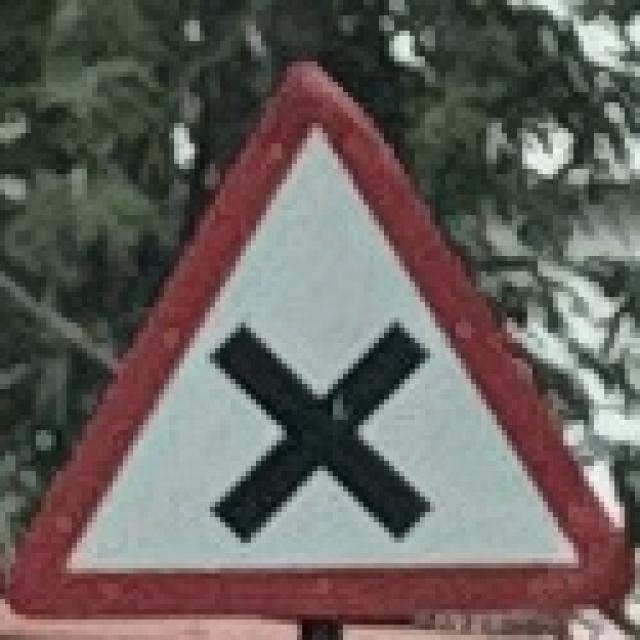CROSS_ROAD: (2, 44, 640, 624)
